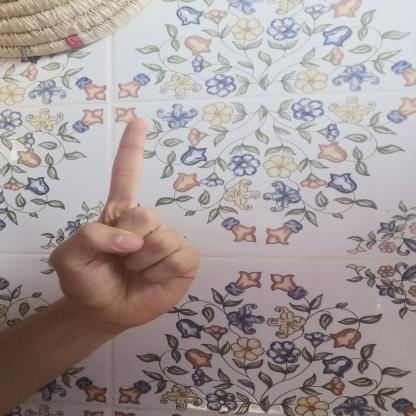BAA: (39, 98, 207, 334)
